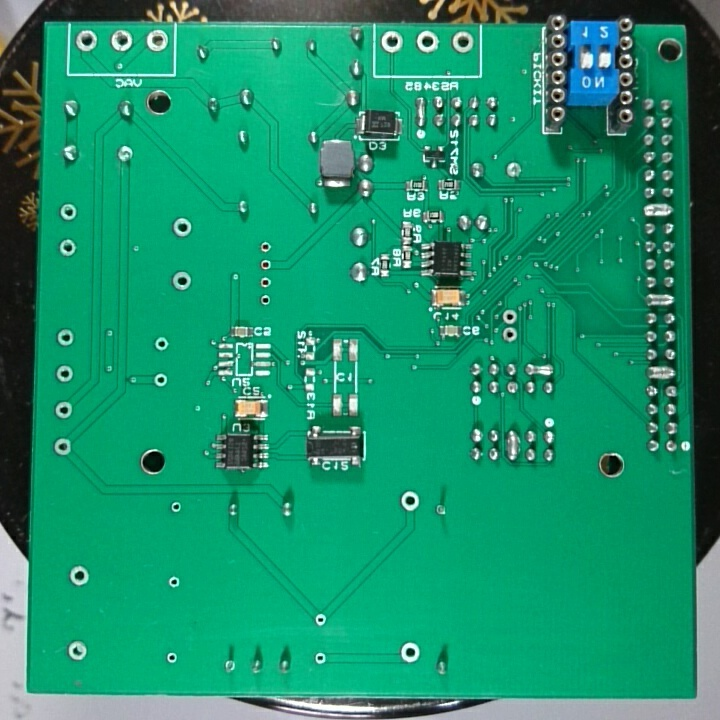F: (447, 28, 476, 60), (413, 28, 442, 59), (72, 26, 99, 58), (396, 486, 424, 515), (64, 636, 93, 664), (142, 28, 171, 56), (377, 29, 405, 58), (108, 26, 134, 56), (65, 563, 93, 590), (168, 213, 193, 243), (397, 637, 421, 668), (52, 326, 78, 352), (50, 397, 76, 422), (51, 360, 76, 386), (56, 200, 81, 226), (50, 433, 73, 461), (55, 235, 80, 260), (170, 266, 194, 292), (114, 143, 139, 166), (504, 158, 525, 185), (431, 498, 450, 526), (150, 370, 173, 392), (499, 323, 523, 344), (164, 573, 184, 596), (151, 332, 171, 355), (220, 654, 237, 679), (310, 647, 329, 669), (310, 611, 330, 631), (499, 307, 520, 326), (256, 273, 275, 292), (663, 438, 681, 457), (161, 649, 180, 667), (165, 498, 184, 516), (257, 290, 275, 309), (504, 378, 521, 398), (257, 239, 277, 255), (257, 255, 273, 273)
P: (503, 426, 522, 464), (641, 200, 675, 220), (523, 360, 556, 380), (643, 293, 676, 311), (646, 363, 676, 382), (413, 94, 428, 129)
